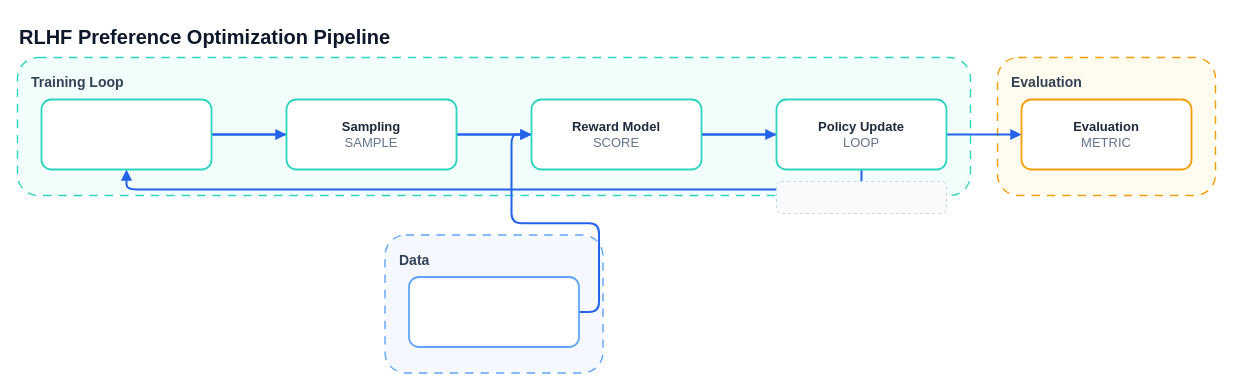
This 1234x391 diagram has some shape labels left out. Here are the shapes that lost their labels. From the top down, the centre of each, then its label:
At point 126,134: "SFT Model AI".
At point 861,197: "PPO / DPO / GRPO".
At point 493,311: "Preference Data DB".
